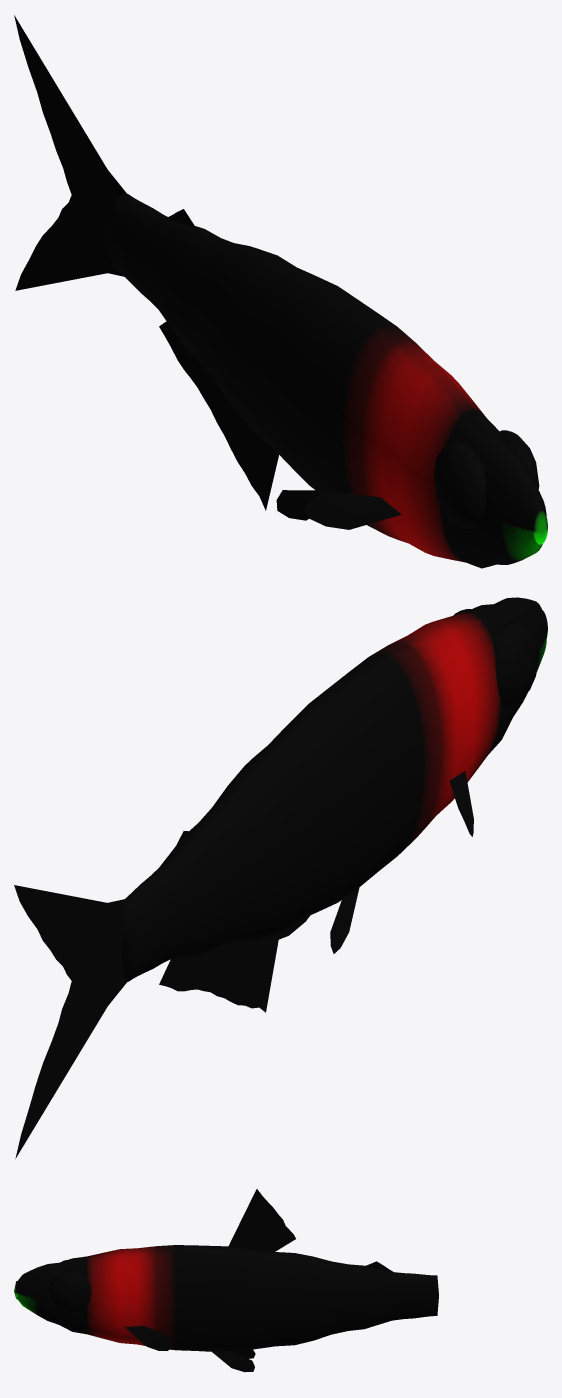
File: cardinal-tetra.glb
3 renders of one model, top to bottom at view 1: azimuth 30°, elevation 25°; view 2: azimuth 150°, elevation 25°; view 3: azimuth 270°, elevation 25°, orthographic. The views are drawn at different scales.
Parts seen in each view (by area): view 1: Cardinal_wild_body, Cardinal_wild_caudal, Cardinal_wild_anal, Cardinal_wild_eyeL, Cardinal_wild_pectoralL, Cardinal_wild_pelvicL, Cardinal_wild_eyeR; view 2: Cardinal_wild_body, Cardinal_wild_caudal, Cardinal_wild_anal, Cardinal_wild_eyeL, Cardinal_wild_pelvicL, Cardinal_wild_pectoralL; view 3: Cardinal_wild_body, Cardinal_wild_dorsal, Cardinal_wild_eyeR, Cardinal_wild_pectoralR, Cardinal_wild_pelvicR.
Part boxes in pixels (box(x1,y1,x2,y2)): Cardinal_wild_body: box(107, 193, 547, 568); Cardinal_wild_caudal: box(14, 15, 127, 290); Cardinal_wild_anal: box(159, 321, 278, 510); Cardinal_wild_eyeL: box(434, 442, 486, 528); Cardinal_wild_pectoralL: box(304, 491, 401, 529); Cardinal_wild_pelvicL: box(276, 490, 319, 520); Cardinal_wild_eyeR: box(500, 430, 539, 489); Cardinal_wild_body: box(122, 597, 547, 982); Cardinal_wild_caudal: box(14, 885, 127, 1158); Cardinal_wild_anal: box(159, 932, 279, 1012); Cardinal_wild_eyeL: box(494, 620, 539, 707); Cardinal_wild_pelvicL: box(330, 887, 359, 953); Cardinal_wild_pectoralL: box(449, 771, 473, 836); Cardinal_wild_body: box(14, 1245, 438, 1351); Cardinal_wild_dorsal: box(228, 1189, 295, 1252); Cardinal_wild_eyeR: box(48, 1271, 91, 1312); Cardinal_wild_pectoralR: box(125, 1325, 171, 1350); Cardinal_wild_pelvicR: box(211, 1351, 254, 1372).
Size of the model in its own units: 0.2283 by 0.5083 by 1.26.
